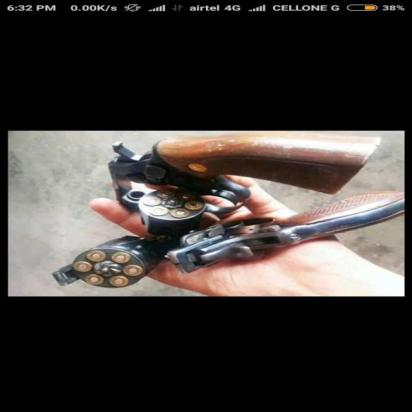Gun: (48, 130, 410, 290)
